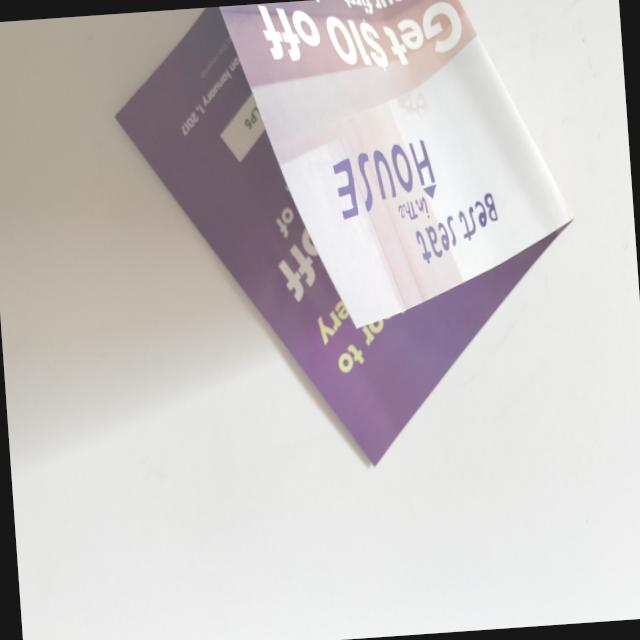Paper: (109, 0, 593, 501)
